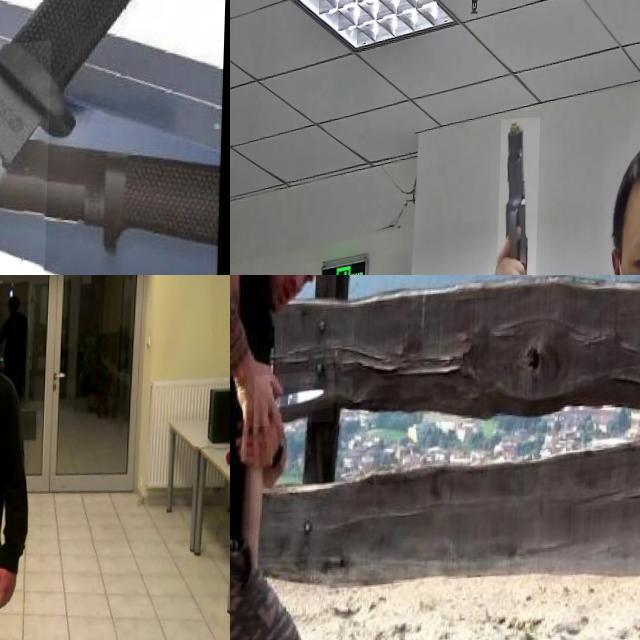-: (0, 47, 170, 275), (255, 375, 336, 431)
gun-knife-thesis - v11 Yolov5 augmented: (497, 122, 541, 275), (0, 435, 26, 483)
